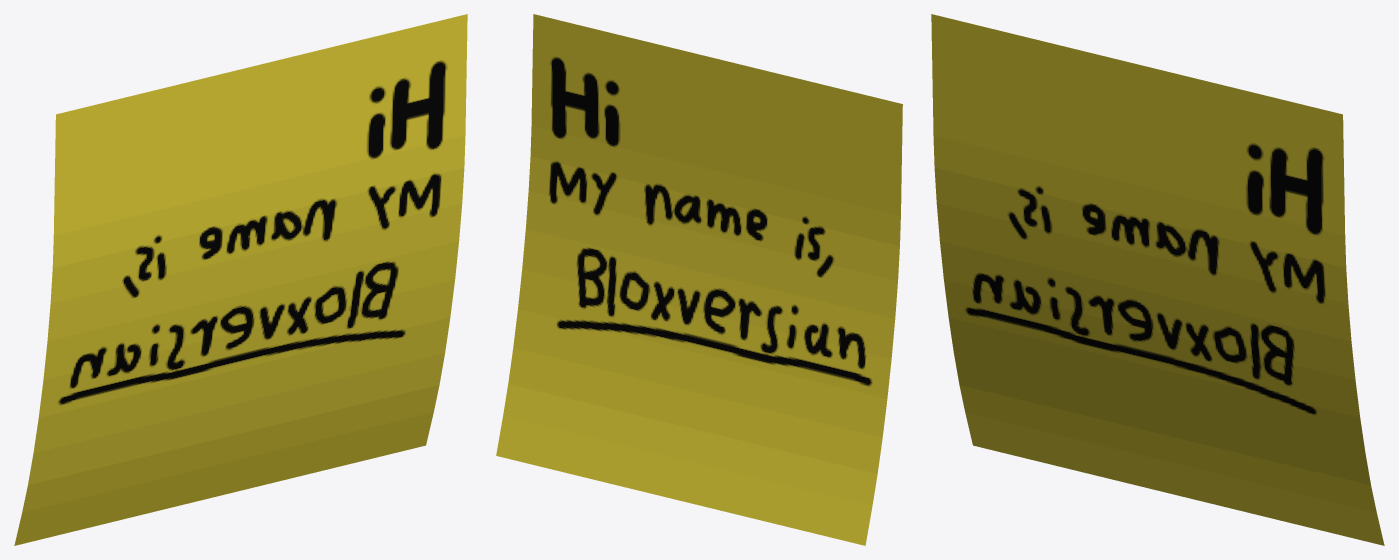
Rendered from stickynote.glb.
3 views of the same model, side by side, from view 1: azimuth 30°, elevation 25°; view 2: azimuth 150°, elevation 25°; view 3: azimuth 330°, elevation 25° (orthographic). The views are drawn at different scales.
Parts seen in each view (by area): view 1: Plane; view 2: Plane; view 3: Plane.
Boxes of the visible parts, x1,y1,x2,y2 form: Plane: (14,14,467,545); Plane: (496,14,902,545); Plane: (931,14,1384,545).
Size of the model in its own units: 0.5378 by 0.5766 by 0.0941.
Materials: 1 (1 with a texture image).
